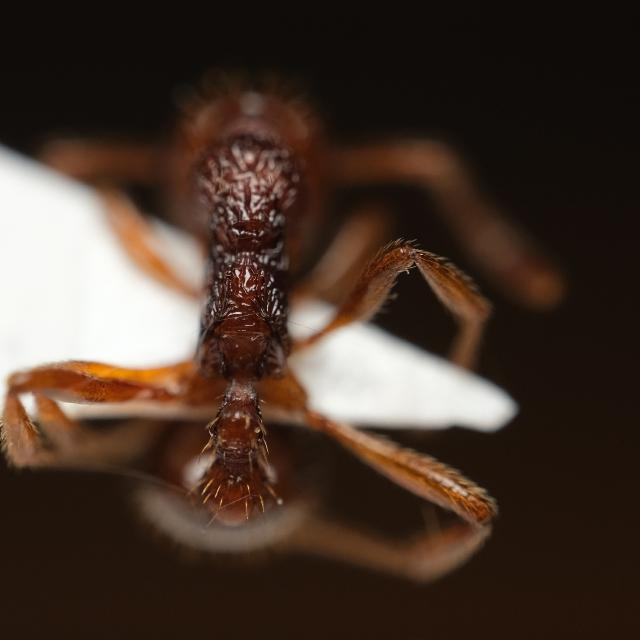Myrmica: (24, 71, 494, 539)
